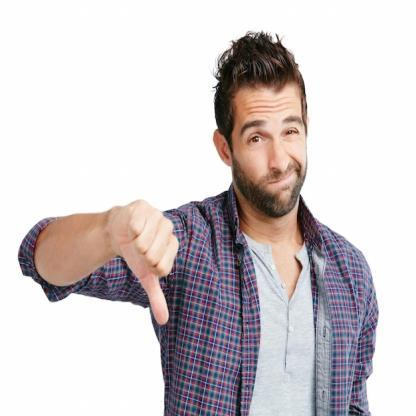thumb_down: (111, 196, 180, 328)
